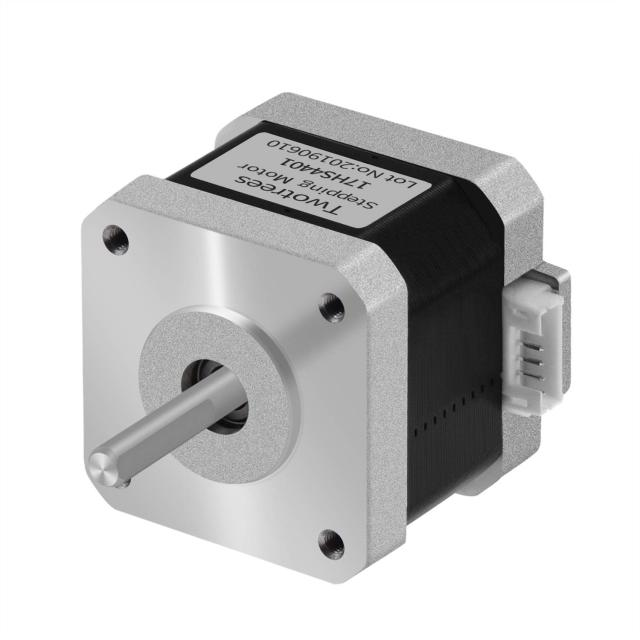motor: (77, 100, 575, 595)
